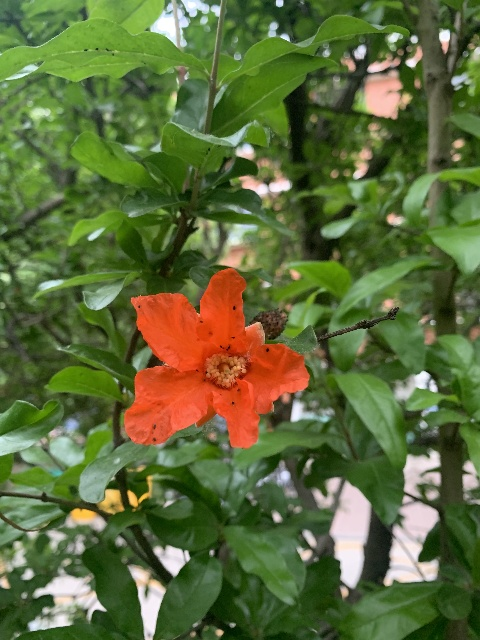flower: (125, 266, 309, 449)
